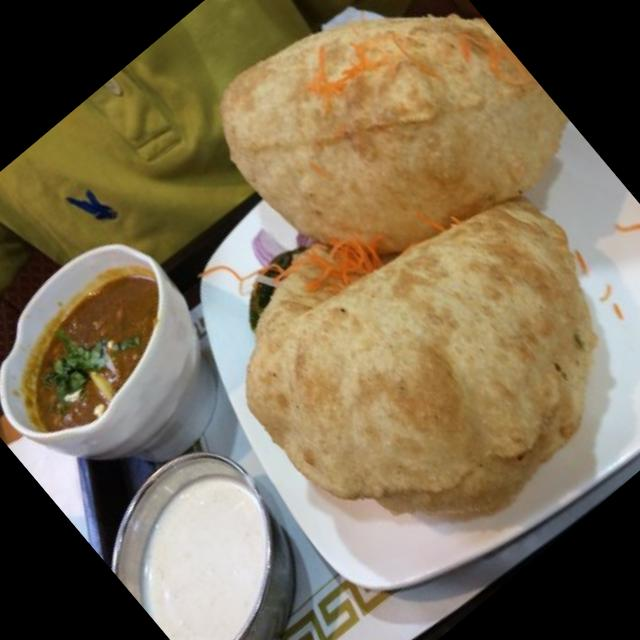Bhatura: (79, 0, 640, 589)
